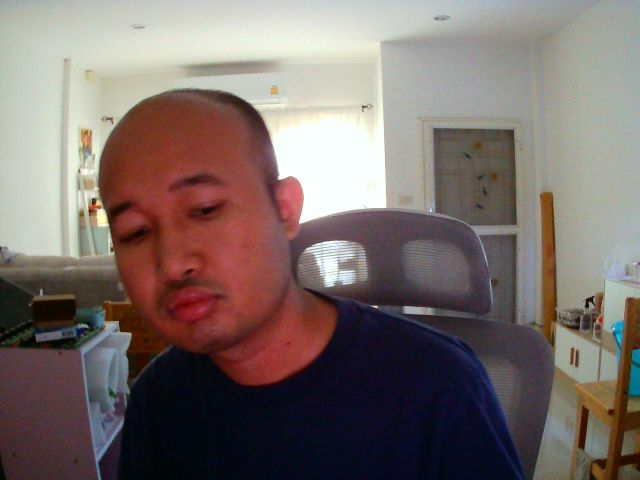face: (94, 87, 286, 354)
